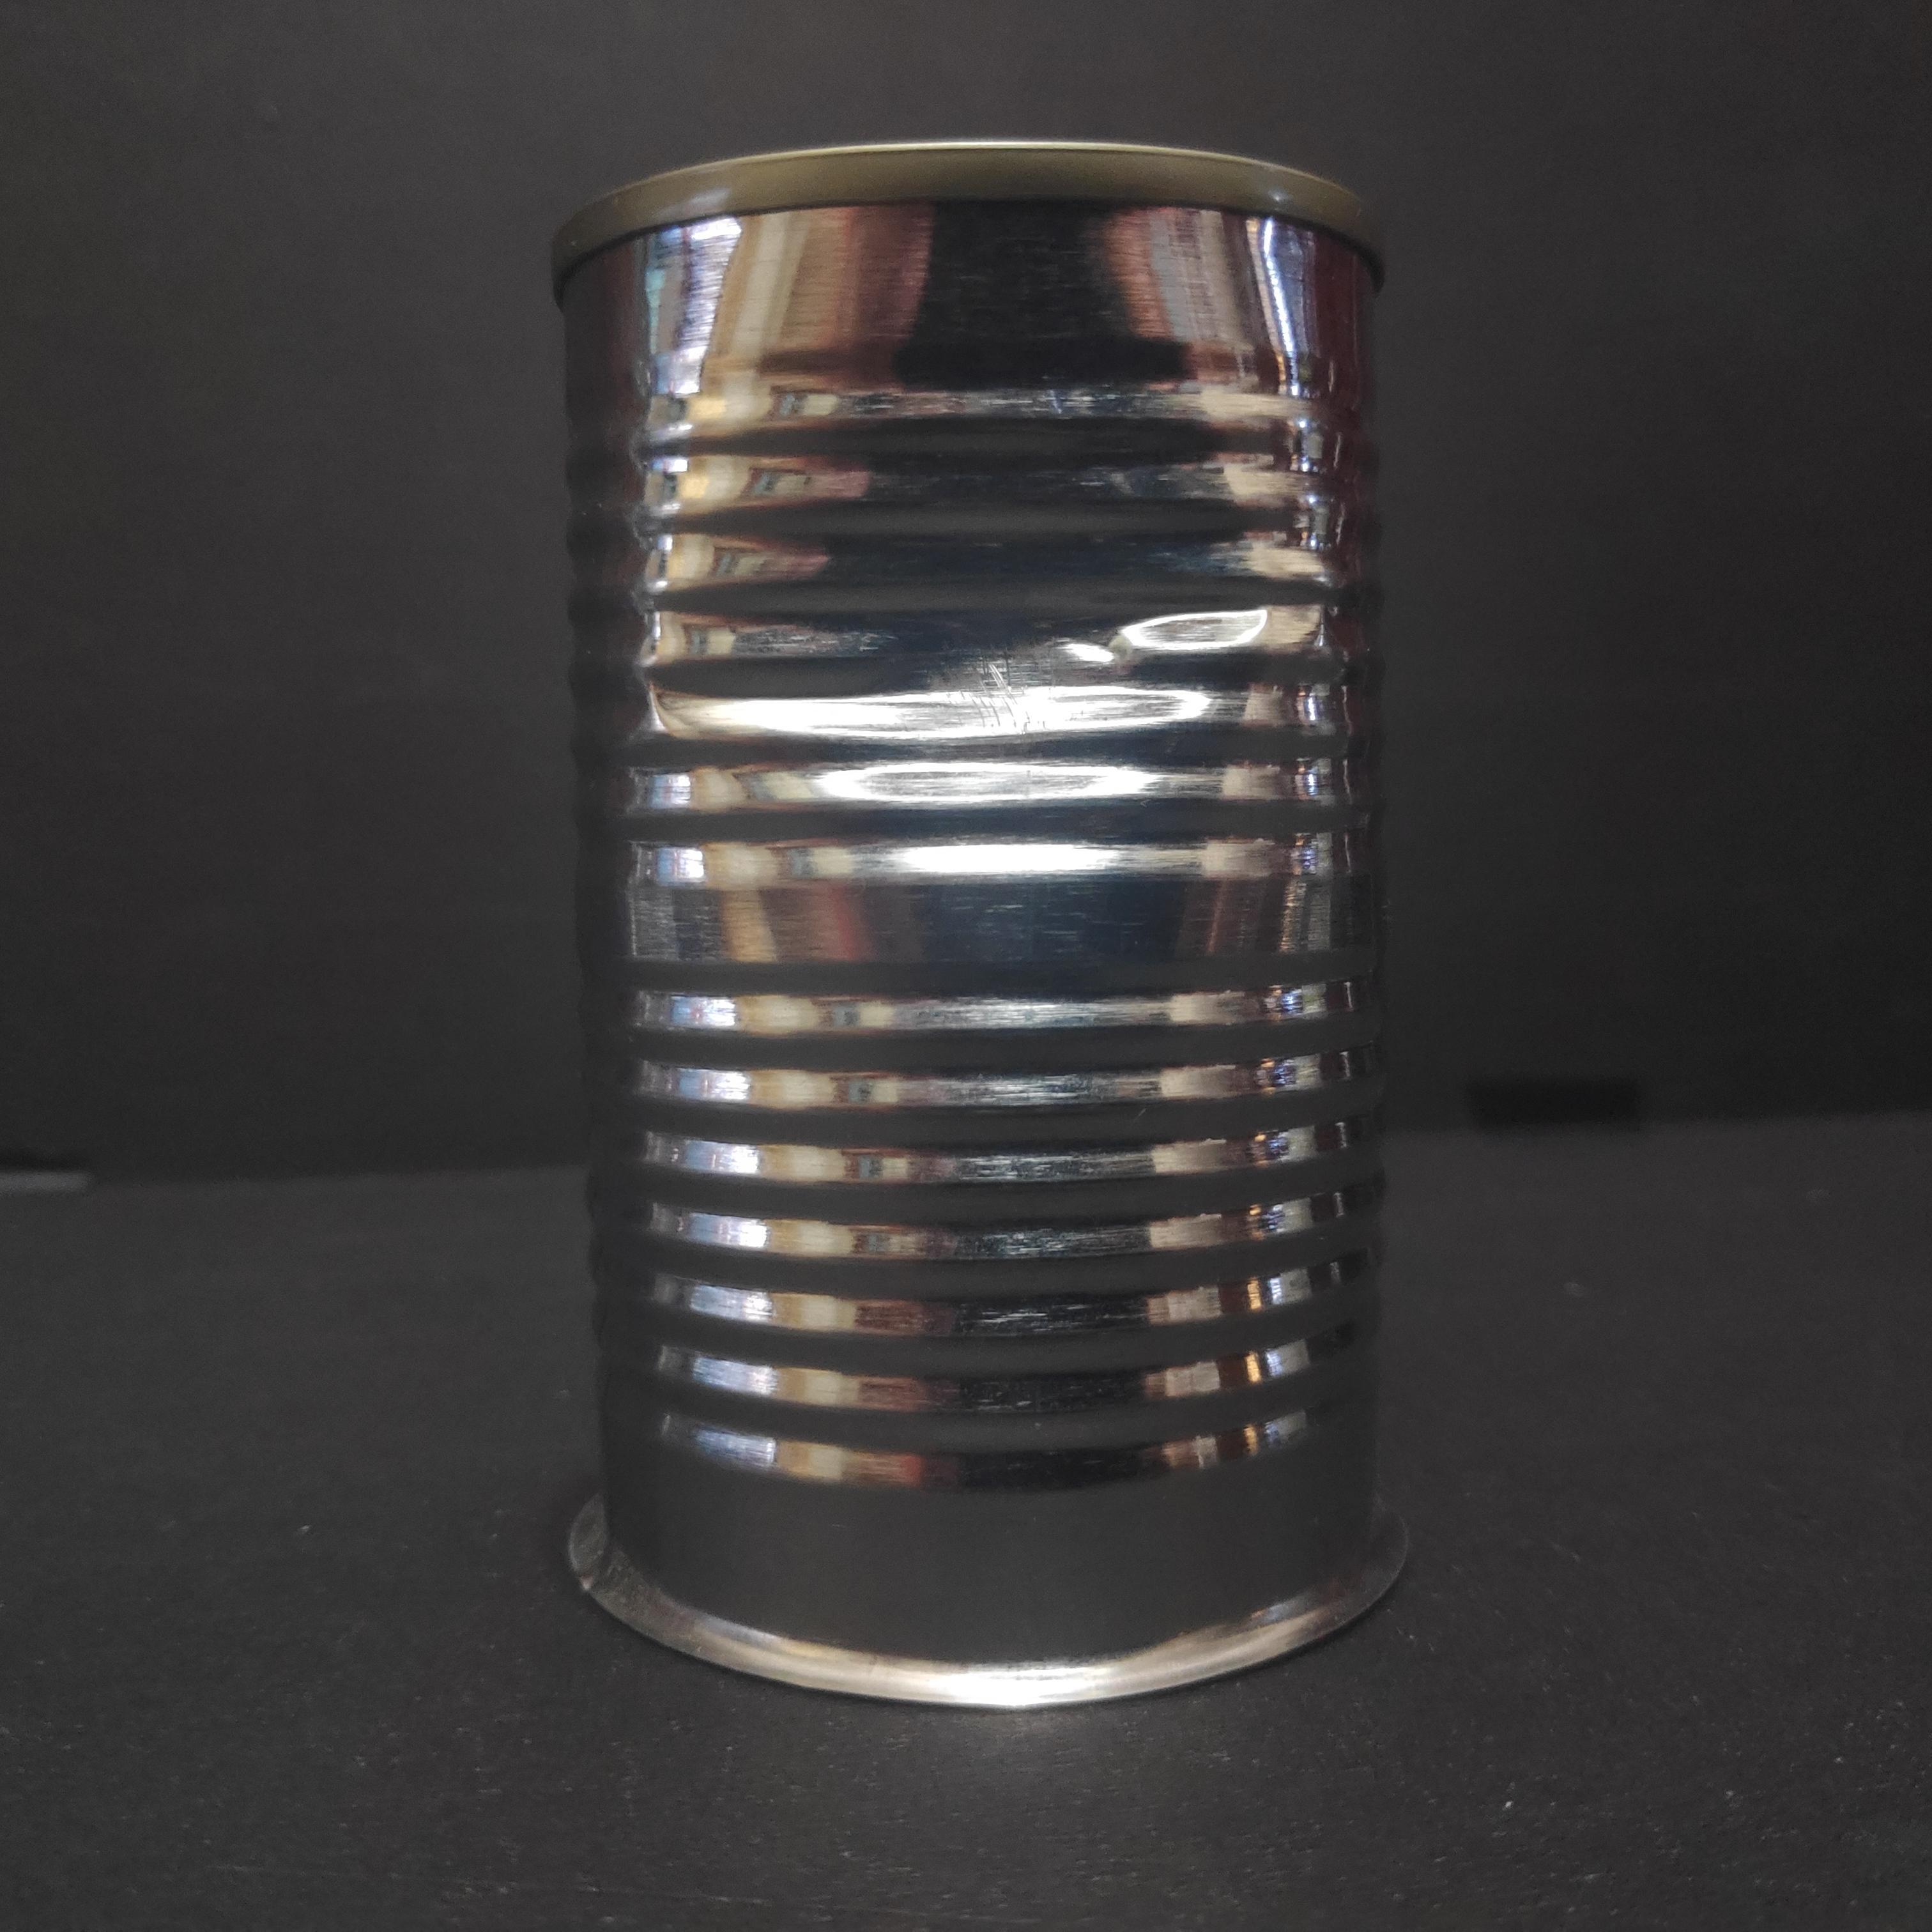Dented: (524, 96, 1431, 1725)
